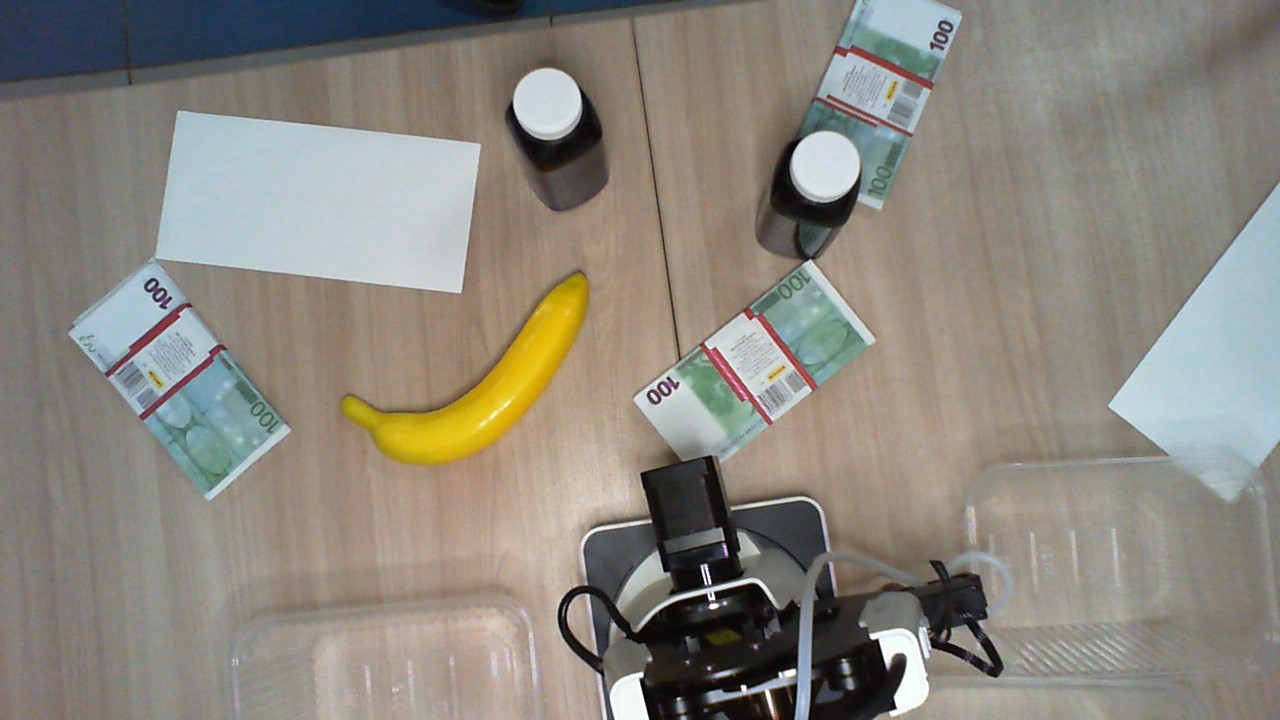banana: (339, 267, 591, 465)
bottle: (765, 130, 862, 223), (505, 65, 594, 162)
convert: (153, 110, 480, 295), (1109, 181, 1280, 502)
money: (630, 255, 876, 479), (65, 257, 289, 503), (789, 1, 964, 211)
